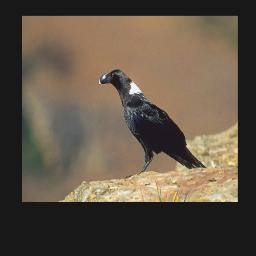Crow: (98, 68, 207, 179)
